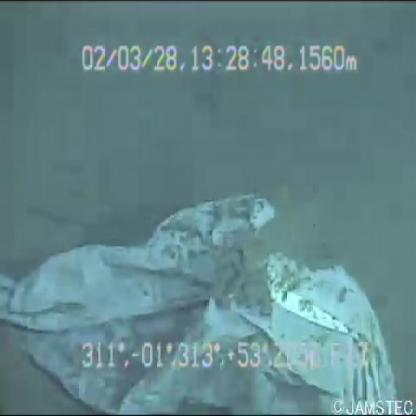Rác: (1, 180, 412, 416)
